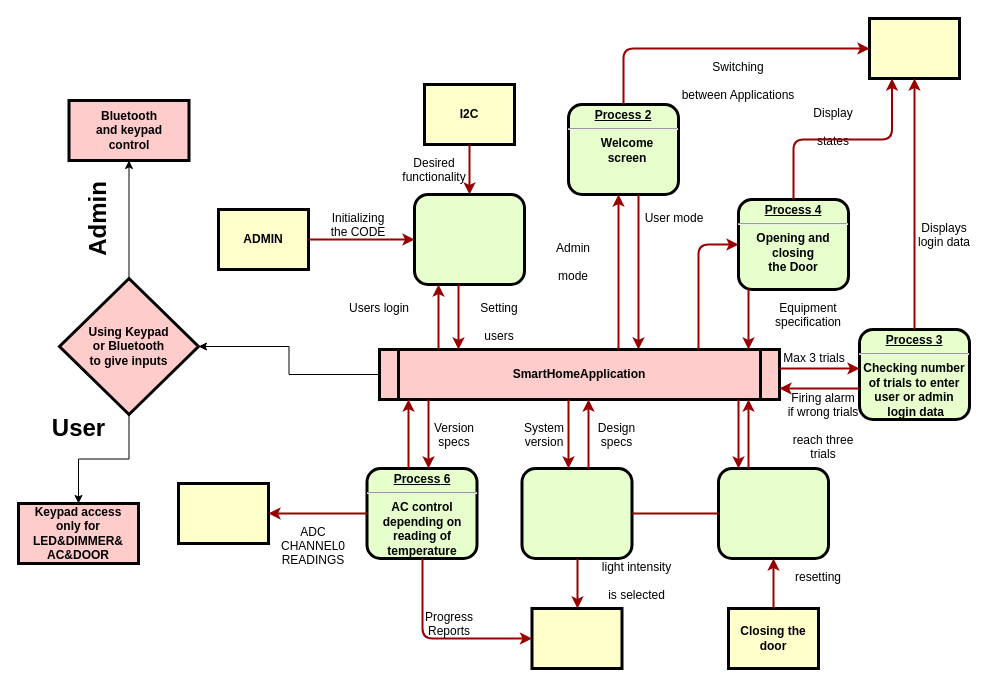
This 988x687 diagram has some shape labels left out. Each missing label, with the centre of its shape:
DC motor ON/OFF: point 223,513
Dimmer &relay & LED control: point 576,638
LCD: point 914,48
Process 1 Admin data saved at the EEPROM: point 469,239
Process 5 Turning on The Buzzer until the reset button is pressed: point 773,513
Process 7 Dimmer and LED Control: point 576,513
